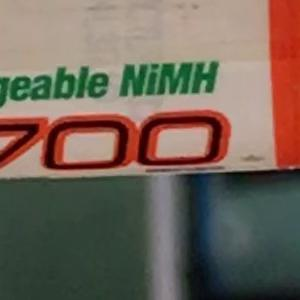NIMH: (110, 52, 228, 106)
